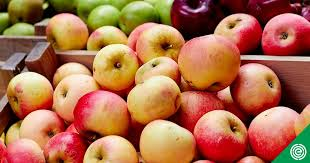apple: (176, 33, 241, 89), (246, 103, 302, 161), (232, 59, 287, 112), (126, 73, 185, 120), (135, 115, 196, 160), (194, 109, 250, 156), (75, 93, 129, 137), (91, 44, 144, 88), (258, 10, 306, 56), (51, 71, 98, 117), (132, 24, 183, 66), (15, 109, 71, 146), (6, 74, 53, 117), (215, 12, 263, 54), (48, 11, 92, 54), (82, 134, 137, 163), (46, 130, 86, 162), (4, 138, 46, 163)
